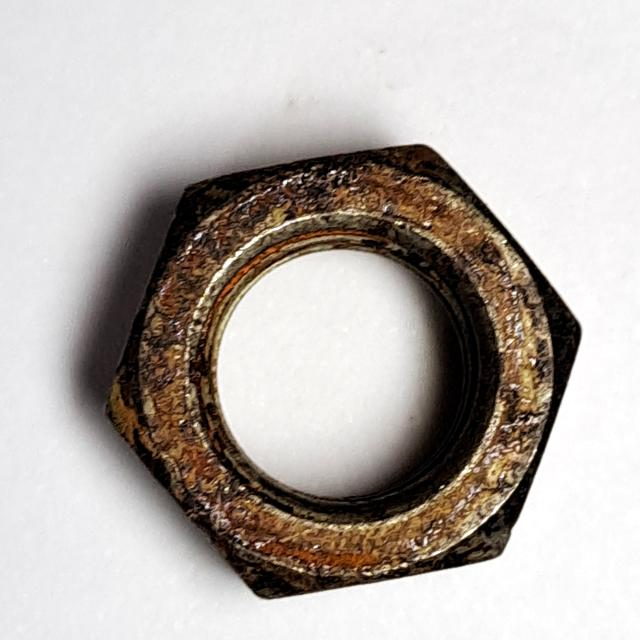Rust: (87, 137, 595, 611)
